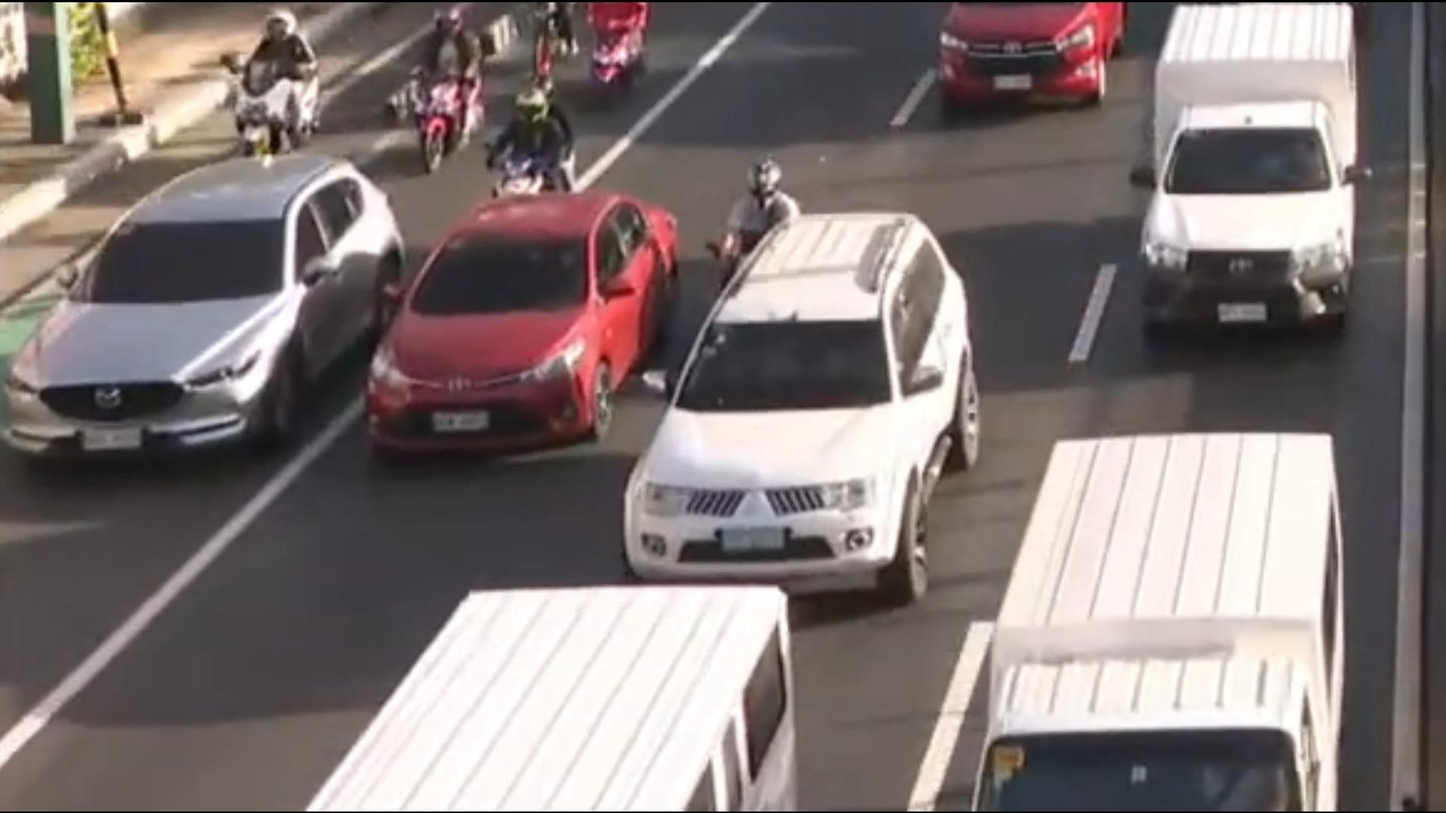Motorcycle: (475, 48, 615, 225), (388, 0, 527, 172), (206, 20, 353, 172), (574, 0, 666, 93)
Multicab: (944, 380, 1383, 813), (288, 556, 801, 813)
SUV: (613, 170, 1061, 608), (0, 84, 466, 495)
Sedan: (369, 164, 689, 467)
Truck: (1148, 0, 1382, 348)
